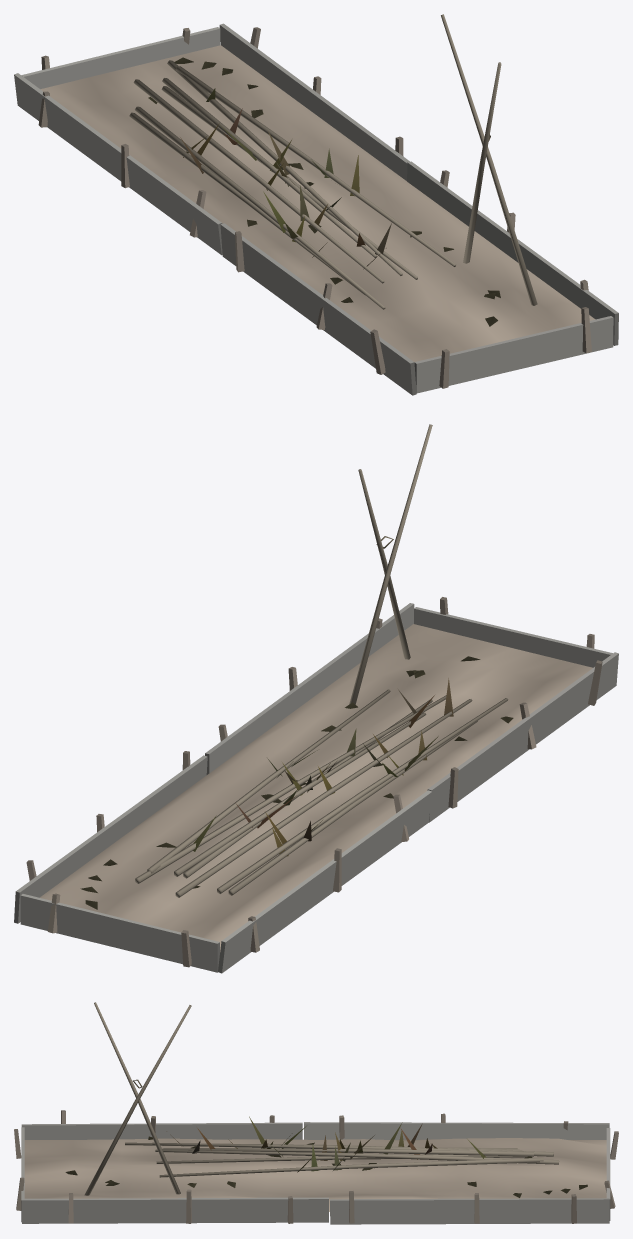
Rendered from prop_garden_bed_beans.glb.
3 views of the same model, one above another, from view 1: azimuth 30°, elevation 25°; view 2: azimuth 150°, elevation 25°; view 3: azimuth 270°, elevation 25° (orthographic). The views are drawn at different scales.
Visible parts, largest first — view 1: GardenBedBeansSoft, GardenBedBeans; view 2: GardenBedBeansSoft, GardenBedBeans; view 3: GardenBedBeansSoft, GardenBedBeans.
Boxes of the visible parts, left/top/right/bottom form: GardenBedBeansSoft: left=40, top=14, right=595, bottom=361; GardenBedBeans: left=14, top=23, right=618, bottom=395; GardenBedBeansSoft: left=40, top=424, right=592, bottom=951; GardenBedBeans: left=14, top=597, right=618, bottom=973; GardenBedBeansSoft: left=24, top=1002, right=606, bottom=1211; GardenBedBeans: left=14, top=1110, right=618, bottom=1224.
Size of the model in its own units: 1.35 by 1.47 by 4.11.
